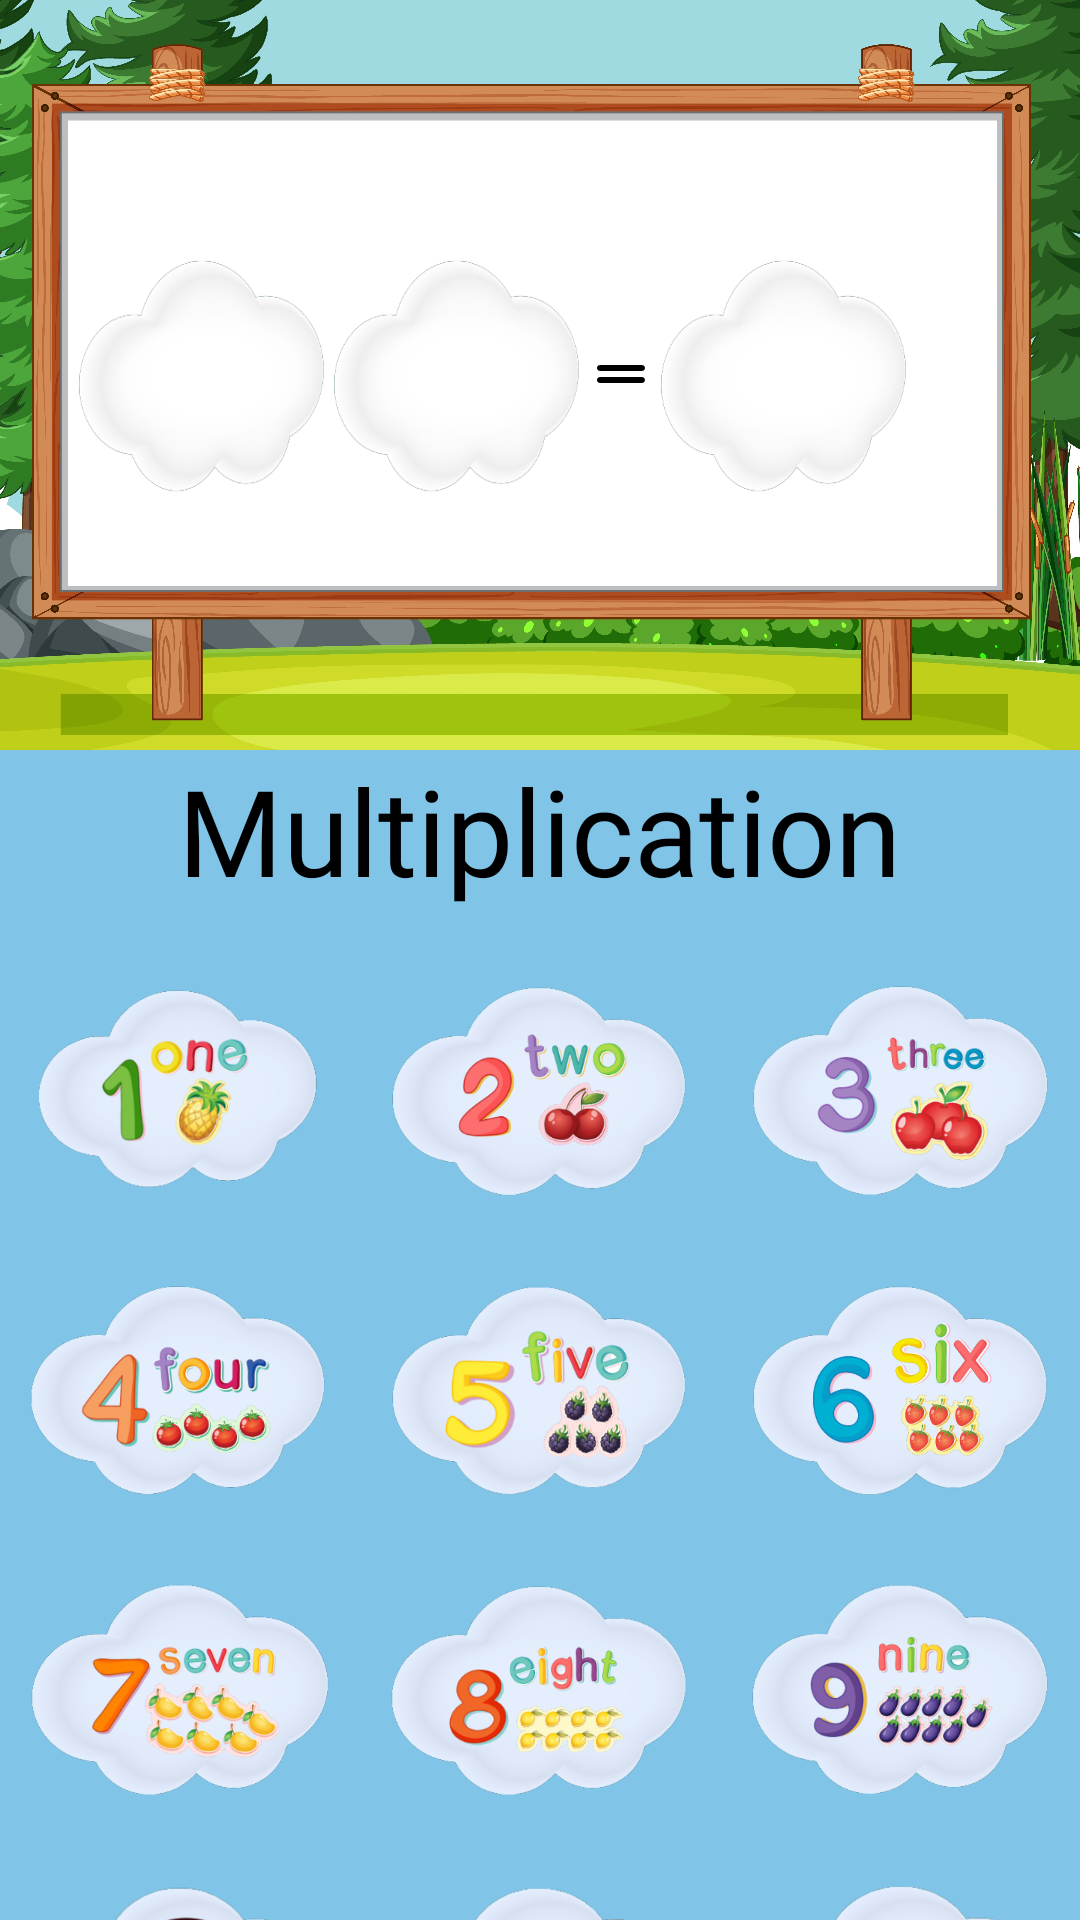

Screen size 1080w x 1920h. Icon name, then its box in pixels as box(x1, y1, x2, y2):
math equal: box(597, 365, 645, 383)
